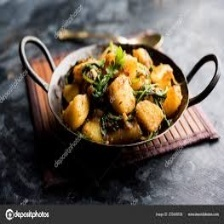sabzi: (58, 42, 183, 145)
